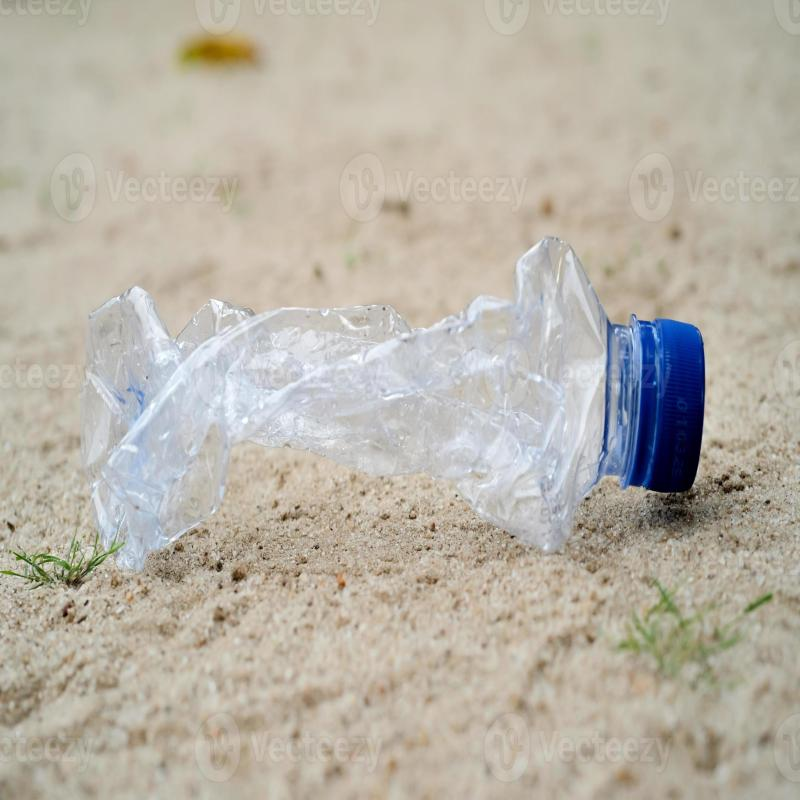botella: (90, 235, 714, 576)
